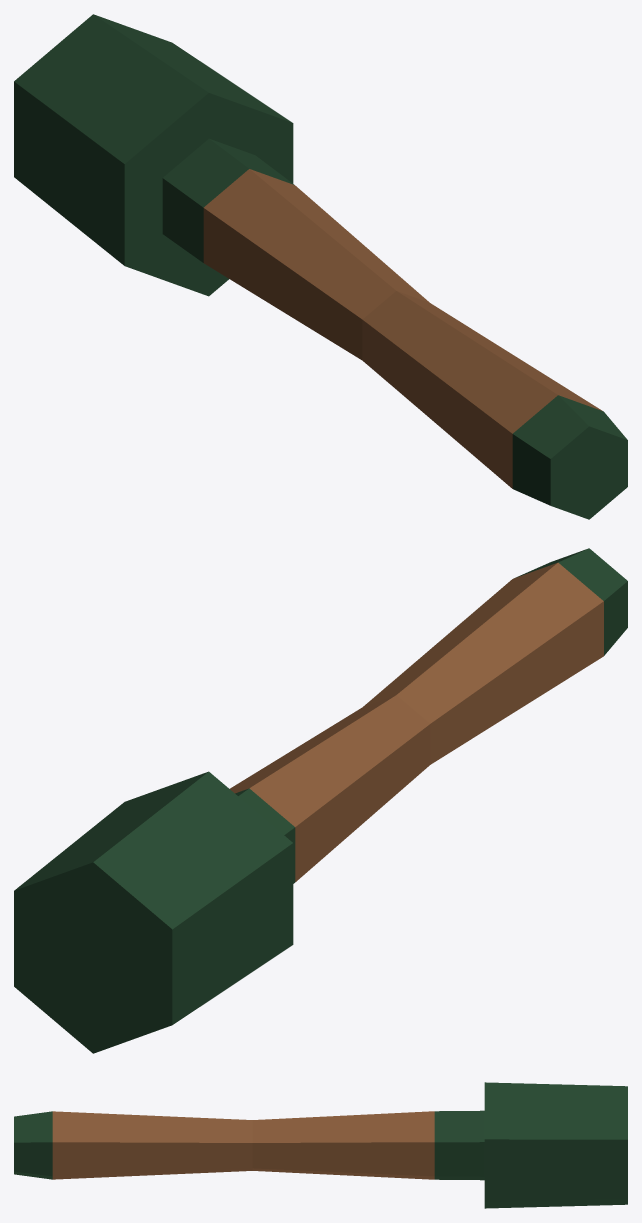
File: weapons_stick-grenade.fbx
3 renders of one model, top to bottom at view 1: azimuth 30°, elevation 25°; view 2: azimuth 150°, elevation 25°; view 3: azimuth 270°, elevation 25°, orthographic. The views are drawn at different scales.
Parts seen in each view (by area): view 1: weapons_stick_grenade; view 2: weapons_stick_grenade; view 3: weapons_stick_grenade.
Part boxes in pixels (box(x1,y1,x2,y2)): weapons_stick_grenade: box(14, 14, 627, 519); weapons_stick_grenade: box(14, 548, 627, 1053); weapons_stick_grenade: box(14, 1082, 627, 1208).
Size of the model in its own units: 39.24 by 45.31 by 200.
